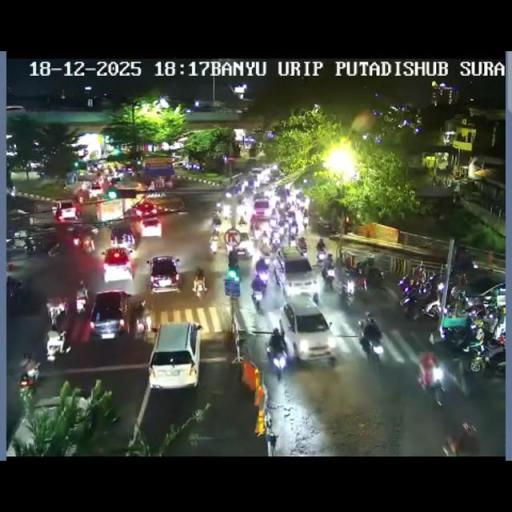Car: (6, 389, 94, 456), (278, 296, 334, 364), (147, 322, 201, 390), (88, 290, 132, 339), (278, 248, 318, 299), (146, 254, 182, 294), (464, 281, 505, 312), (102, 247, 135, 282), (228, 230, 254, 258), (109, 225, 136, 251), (52, 199, 78, 220), (139, 215, 162, 238), (252, 196, 270, 220), (134, 200, 158, 218), (88, 182, 103, 198), (250, 167, 264, 181)
Motorcycle: (436, 315, 480, 354), (416, 354, 446, 405), (477, 338, 506, 378), (359, 325, 385, 368), (446, 354, 470, 396), (264, 338, 287, 380), (45, 328, 71, 362), (18, 355, 40, 392), (457, 423, 479, 456), (418, 270, 442, 298), (402, 293, 423, 321), (338, 274, 357, 304), (134, 305, 152, 336), (421, 294, 442, 320), (490, 306, 506, 338), (250, 284, 266, 314), (226, 250, 241, 278), (357, 256, 376, 278), (6, 276, 22, 302), (398, 274, 416, 296), (440, 434, 458, 456), (449, 284, 467, 306), (321, 264, 335, 290), (272, 258, 284, 287), (54, 306, 68, 330), (46, 240, 64, 258), (192, 277, 206, 300), (266, 428, 278, 454), (354, 273, 368, 295), (254, 267, 270, 286), (76, 279, 88, 304), (80, 234, 95, 253), (344, 256, 358, 275), (316, 247, 330, 265), (453, 270, 467, 288), (209, 232, 220, 254), (270, 230, 282, 248), (258, 232, 270, 250), (24, 237, 35, 254), (297, 236, 307, 254), (211, 217, 222, 232), (294, 190, 305, 204), (222, 206, 232, 221), (268, 214, 278, 229), (289, 234, 298, 250), (235, 194, 244, 210), (238, 181, 249, 194), (250, 180, 260, 194), (238, 214, 247, 226), (249, 216, 256, 230), (302, 216, 308, 230), (216, 200, 222, 214), (302, 206, 308, 218), (225, 190, 232, 200)
